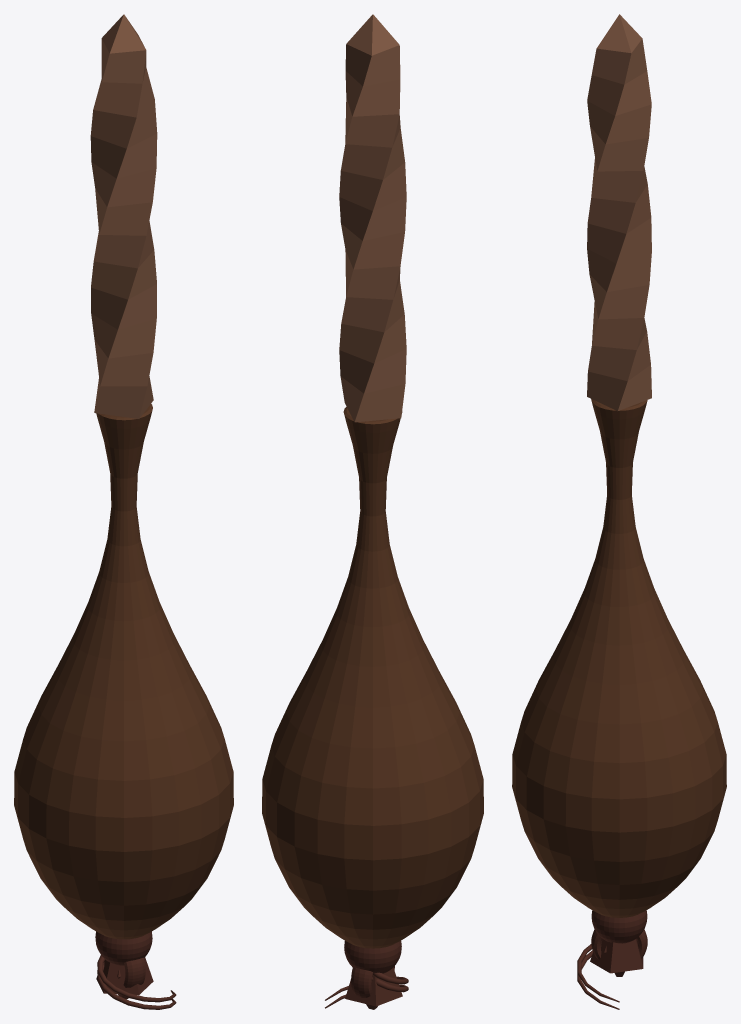
Rendered from Wand 959.glb.
3 views of the same model, side by side, from view 1: azimuth 30°, elevation 25°; view 2: azimuth 150°, elevation 25°; view 3: azimuth 270°, elevation 25° (orthographic). The views are drawn at different scales.
Visible parts, largest first — view 1: GeneratedWand, Pommel_4, Pommel_9, Pommel_2; view 2: GeneratedWand, Pommel_4, Pommel_9, Pommel_2; view 3: GeneratedWand, Pommel_4, Pommel_9.
Part boxes in pixels (bbox=[...]): GeneratedWand: bbox=[14, 14, 233, 1002]; Pommel_4: bbox=[95, 931, 152, 965]; Pommel_9: bbox=[96, 957, 153, 995]; Pommel_2: bbox=[123, 957, 145, 987]; GeneratedWand: bbox=[262, 14, 483, 1000]; Pommel_4: bbox=[344, 940, 401, 973]; Pommel_9: bbox=[345, 967, 402, 1006]; Pommel_2: bbox=[351, 966, 394, 997]; GeneratedWand: bbox=[512, 14, 726, 1002]; Pommel_4: bbox=[591, 910, 647, 943]; Pommel_9: bbox=[590, 939, 643, 973].
Bounding box in the file's own units: 0.1026 × 0.5131 × 0.1026.
